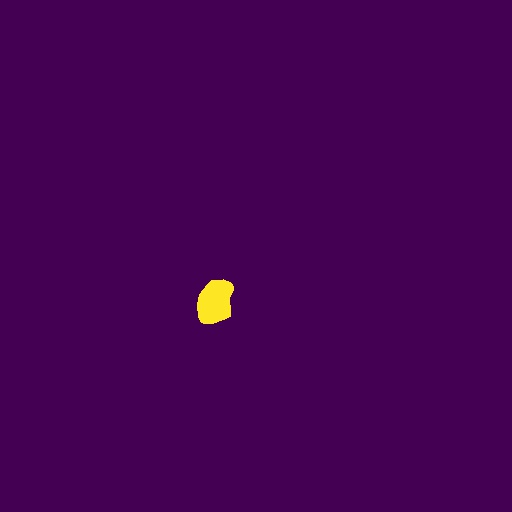Menigiomia_tumour: (197, 279, 234, 324)
